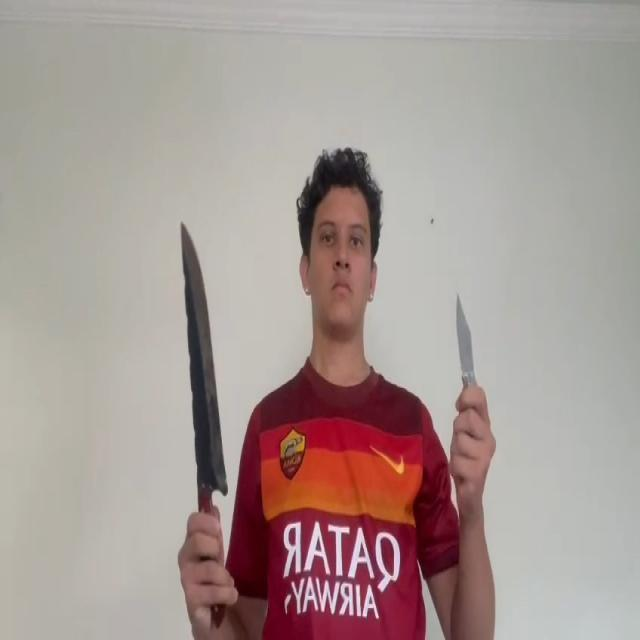knife: (180, 218, 230, 498), (455, 296, 476, 369)
